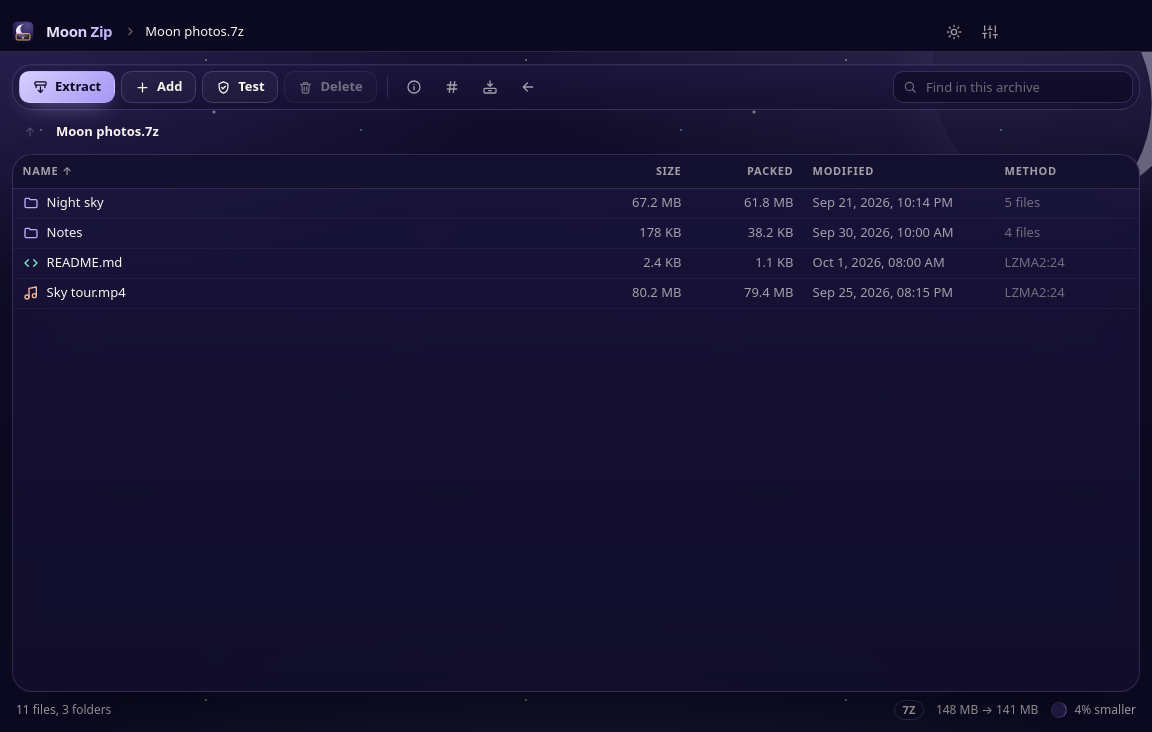
archive window › lists the archive's root and walks into folders
Expected: the text "README.md" is shown, [47,253,122,273]
Expected: the text "Orion.png" is not shown
Double-click the text "Night sky" at coordinates (75, 203), box [47,193,104,213]
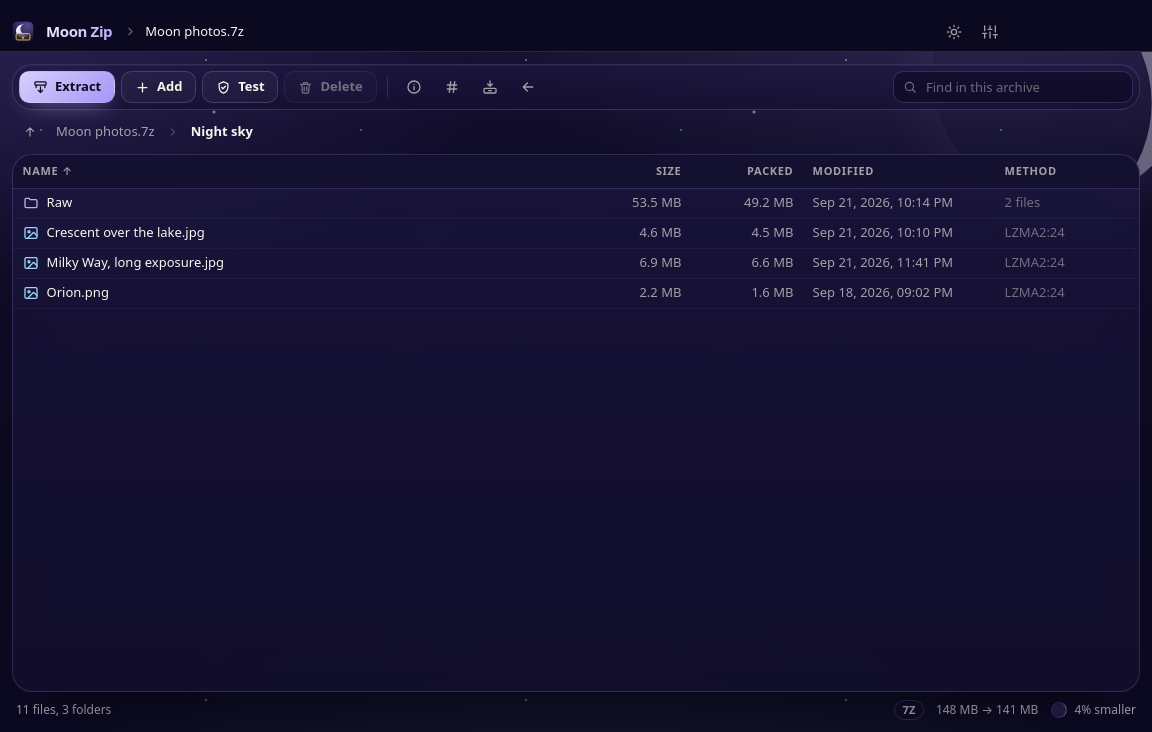
Now the text "Orion.png" is shown, box [47,283,109,303]
Now the navigation bar named "Folder in the archive" shows "Night sky", box [183,119,261,145]
Click the button named "Up one folder" at coordinates (30, 132), box [16,118,44,146]
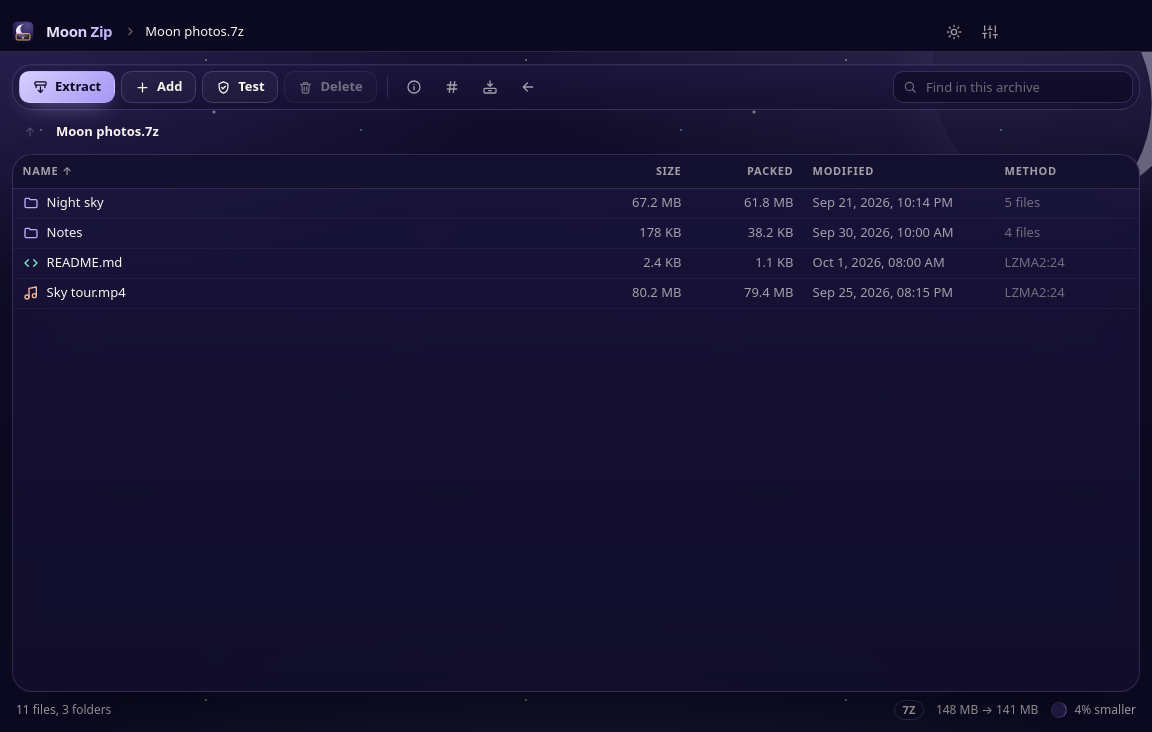
Now the text "README.md" is shown, box [47,253,122,273]
